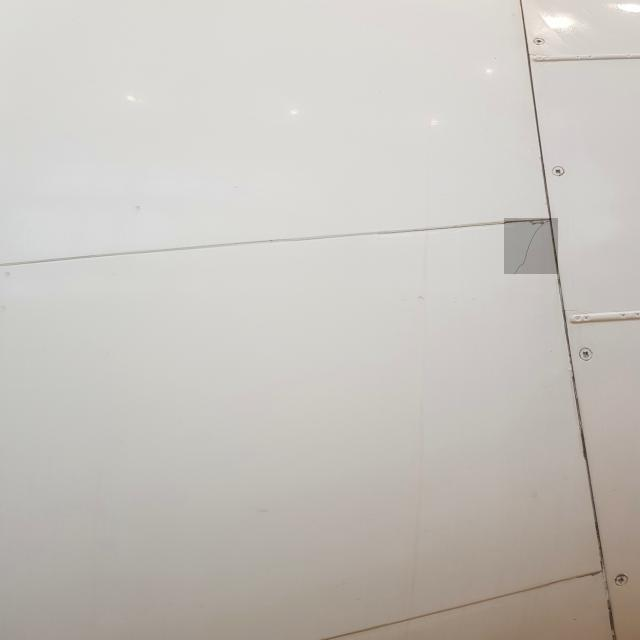crack: (506, 219, 559, 275)
